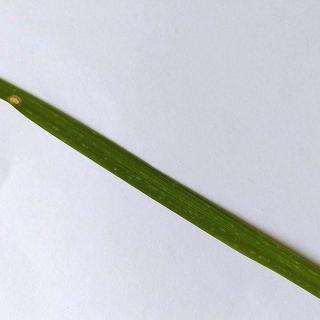Blast: (3, 93, 25, 109)
